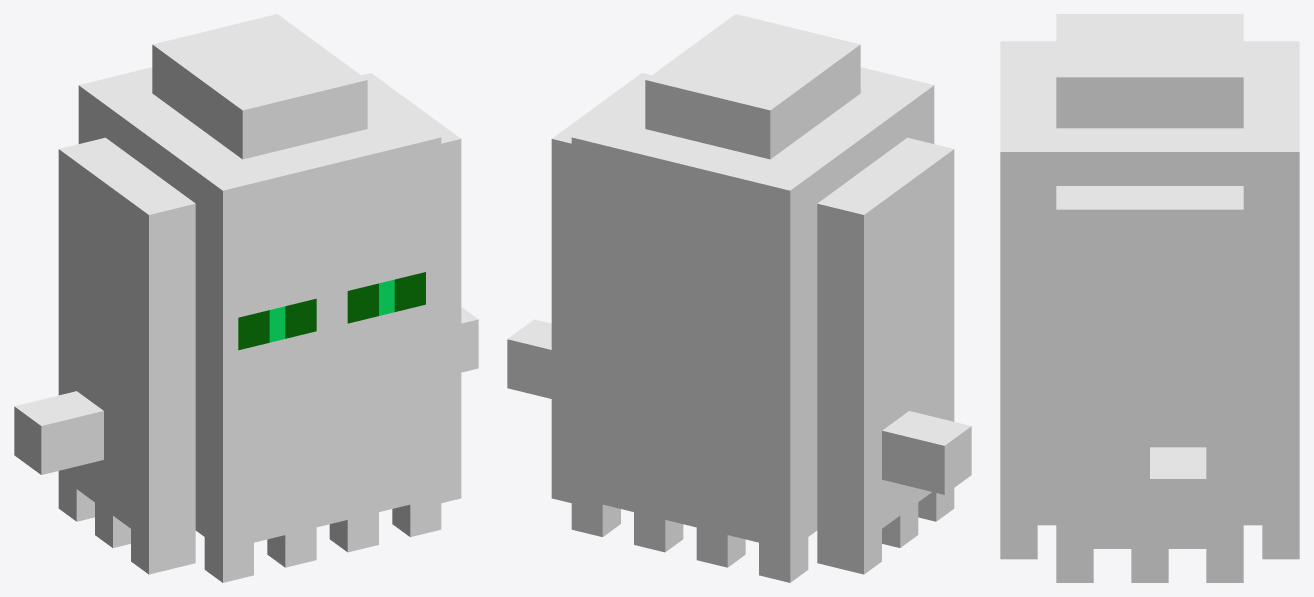
File: naked gotchi.vox.obj
3 renders of one model, left to right at view 1: azimuth 30°, elevation 25°; view 2: azimuth 150°, elevation 25°; view 3: azimuth 270°, elevation 25°, orthographic. The views are drawn at different scales.
Bounding box in the file's own units: 2.8 × 2.7 × 1.6.
1 material, 1 textured.
